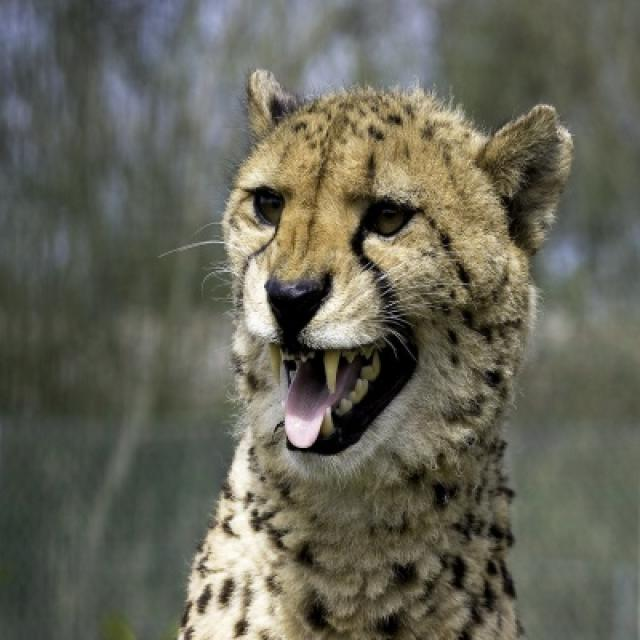Cheetah: (178, 70, 570, 638)
